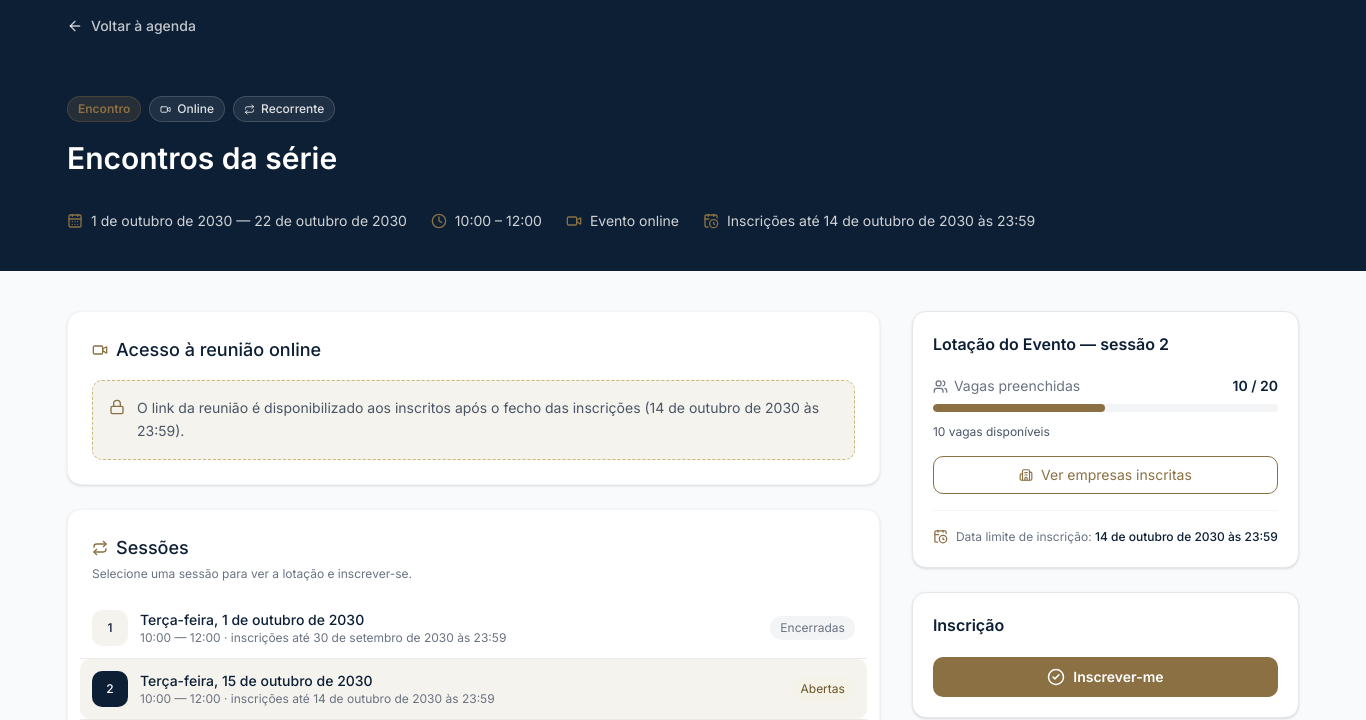
Integração real do contrato de séries no detalhe › se a atualização da série falhar, bloqueia mutações e repete apenas GET
Click the button "Inscrever-me": (1105, 677) [933,657,1278,697]
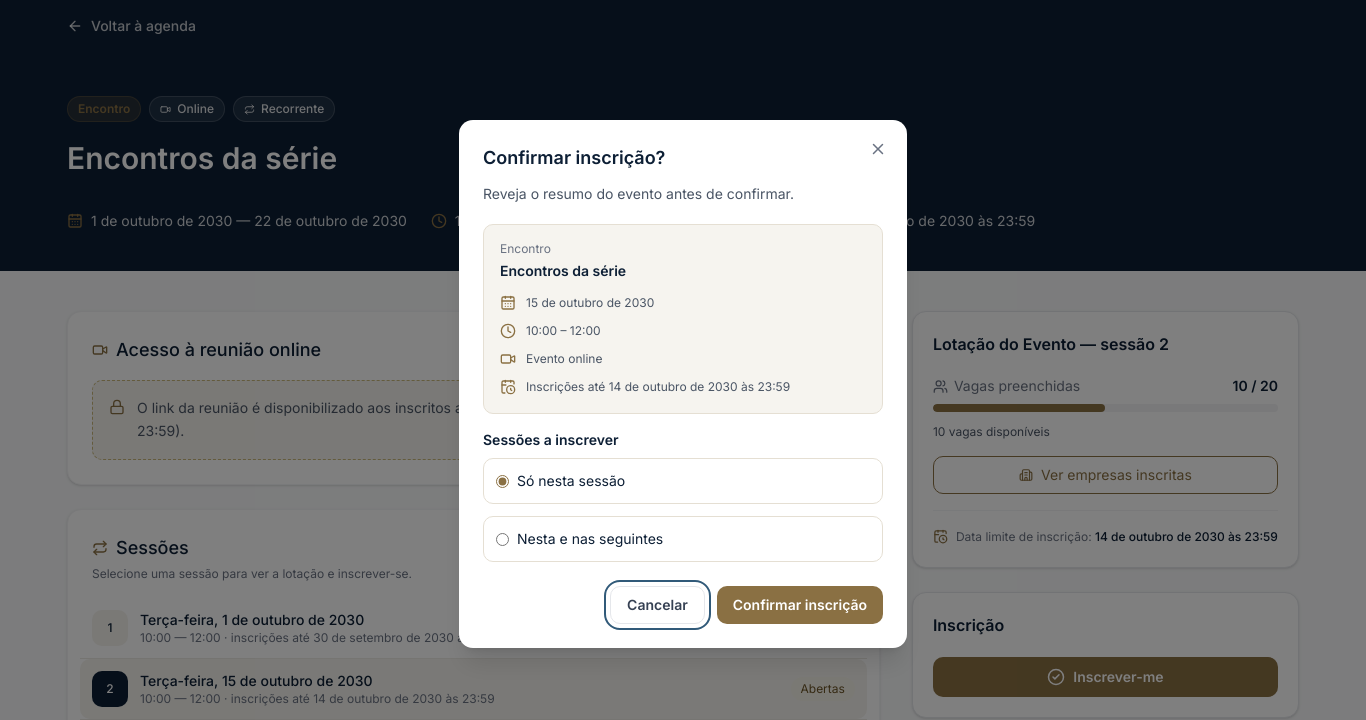
Click the radio button labelled "Nesta e nas seguintes": (502, 540) [496,533,509,546]
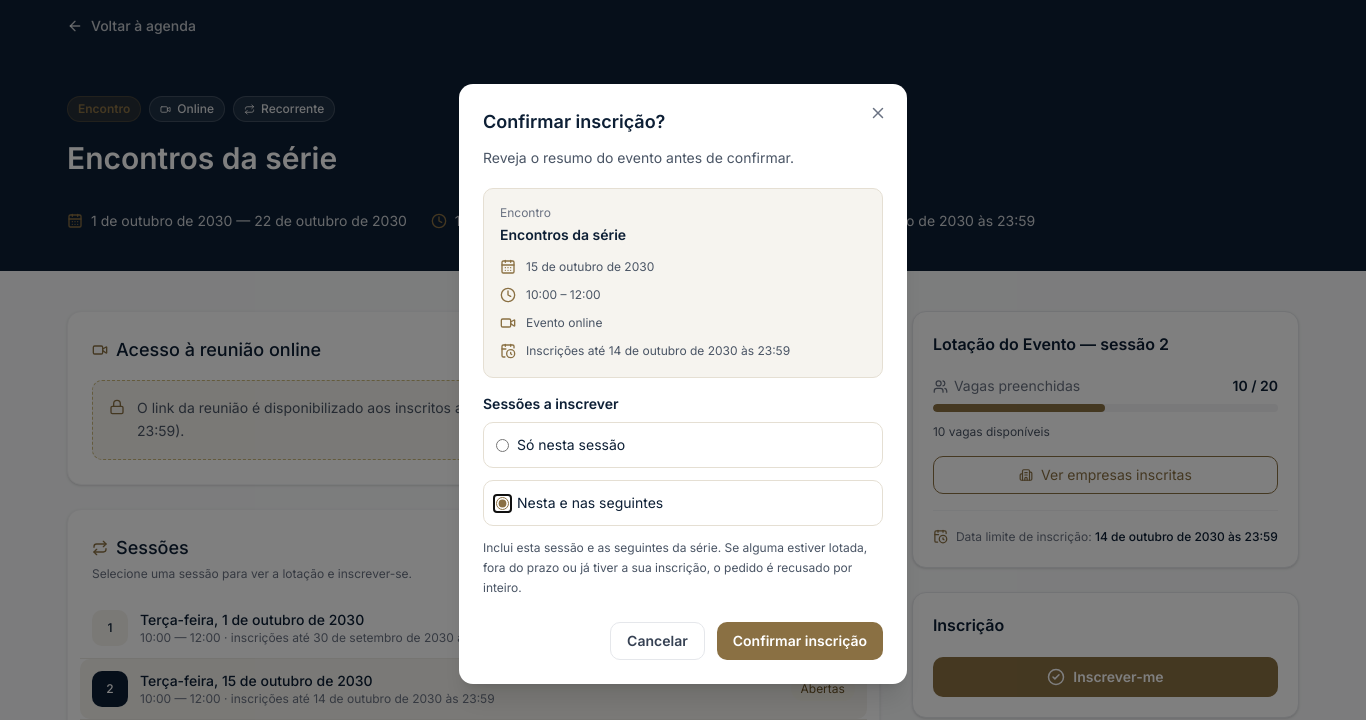
Click the button "Confirmar inscrição": (800, 641) [717,622,883,660]
(page scrolled)
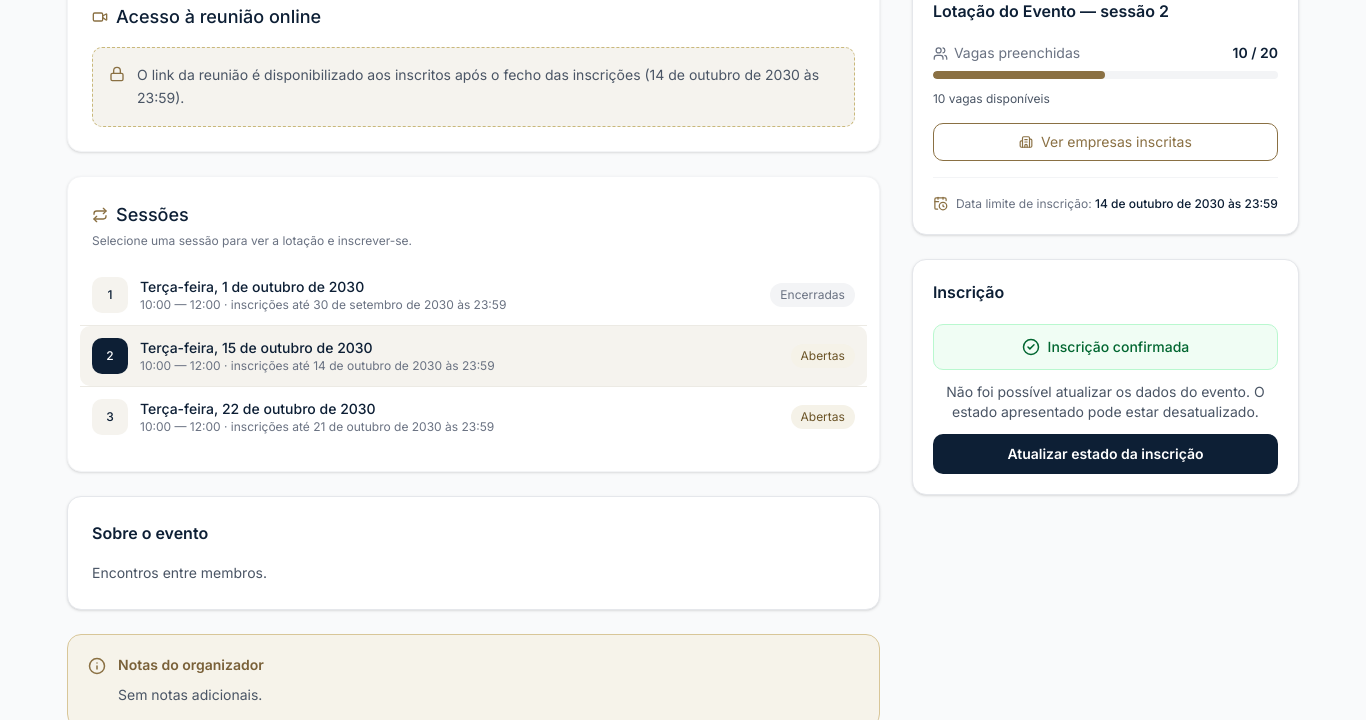
Expected: the button "Cancelar a minha inscrição" is not shown
Expected: the text "10 / 20" is shown, [1232,43,1278,63]
Click the button "Atualizar estado da inscrição": (1105, 454) [933,434,1278,474]
(page scrolled)
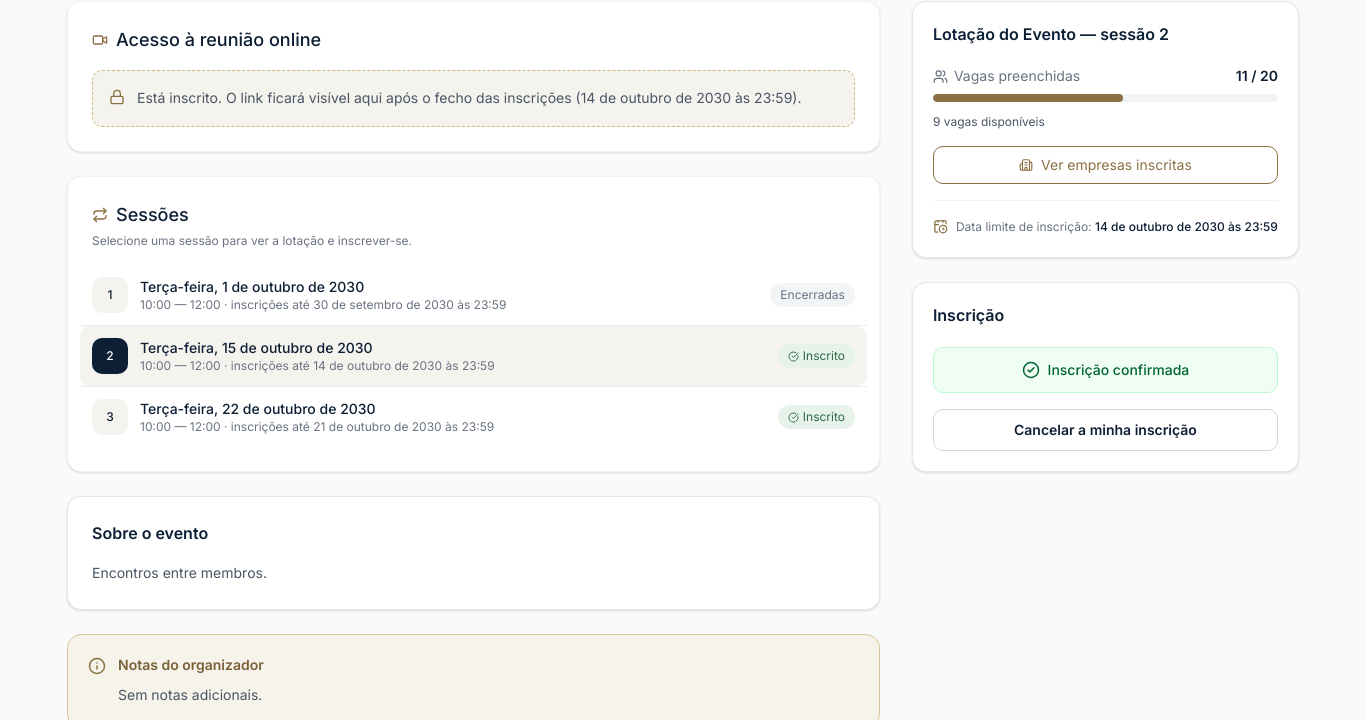
Now the button "Atualizar estado da inscrição" is gone
Now the text "11 / 20" is shown, box [1236,66,1278,86]
